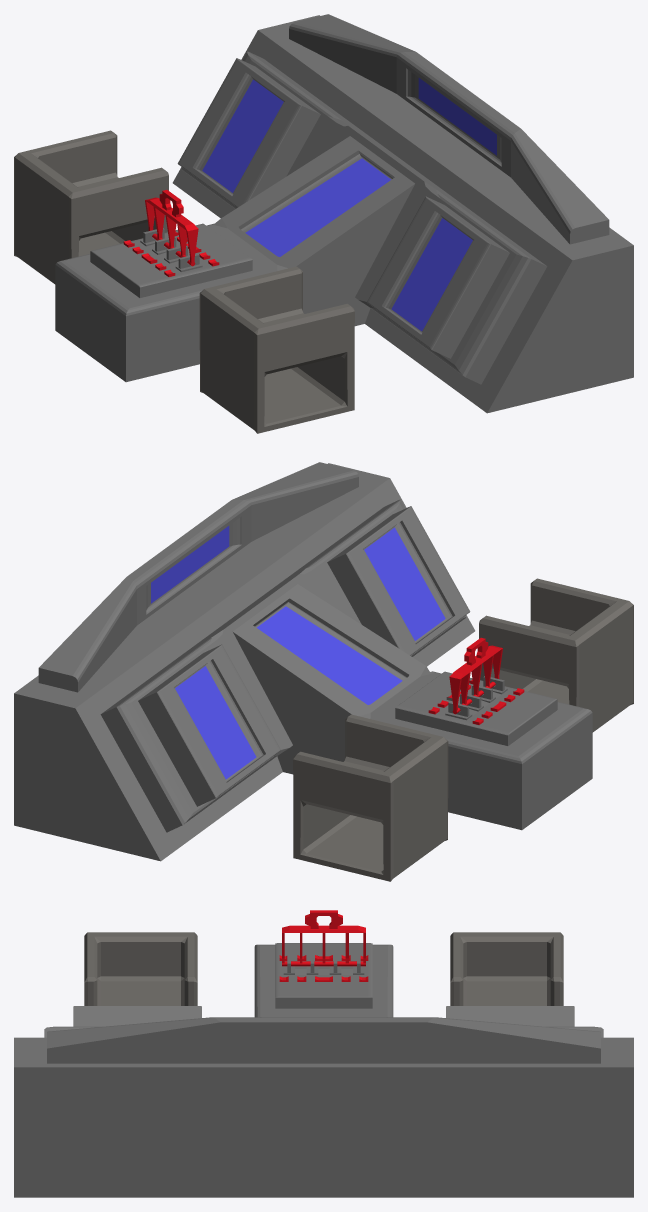
The model's file is spacecockpit.fbx.
3 views of the same model, one above another, from view 1: azimuth 30°, elevation 25°; view 2: azimuth 150°, elevation 25°; view 3: azimuth 270°, elevation 25° (orthographic).
Visible parts, largest first — view 1: Cube.003, Cube.004, Cylinder.003; view 2: Cube.003, Cube.004, Cylinder.003; view 3: Cube.003, Cube.004, Cylinder.003.
Part boxes in pixels (x1=…): Cube.003: x1=55, y1=14, x2=633, y2=413; Cube.004: x1=14, y1=130, x2=354, y2=433; Cylinder.003: x1=145, y1=189, x2=198, y2=266; Cube.003: x1=14, y1=462, x2=592, y2=861; Cube.004: x1=293, y1=578, x2=633, y2=881; Cylinder.003: x1=449, y1=637, x2=502, y2=714; Cube.003: x1=14, y1=943, x2=633, y2=1197; Cube.004: x1=84, y1=932, x2=563, y2=1005; Cylinder.003: x1=282, y1=910, x2=365, y2=966.
Size of the model in its own units: 321 by 138 by 453.
